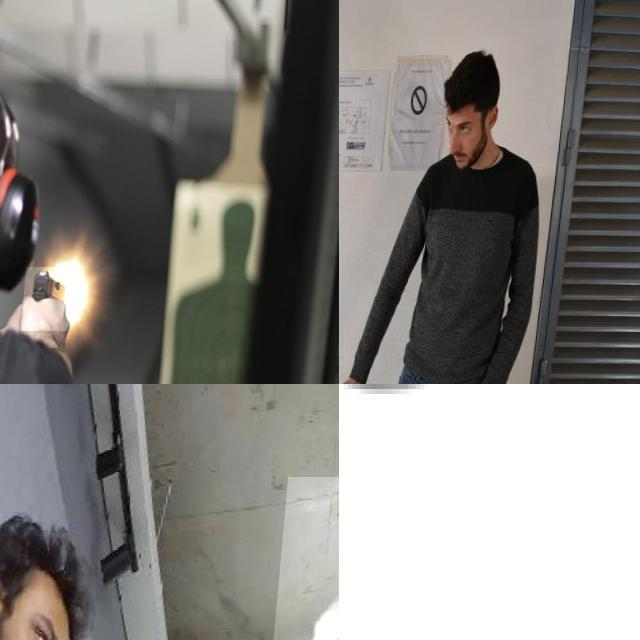-: (278, 477, 339, 640)
gun-knife-thesis - v11 Yolov5 augmented: (339, 384, 640, 640), (27, 267, 78, 331)
